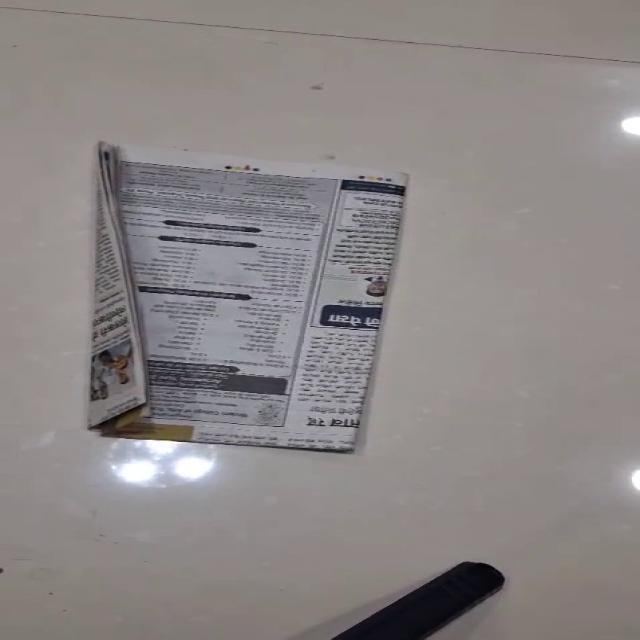paper: (88, 141, 410, 453)
